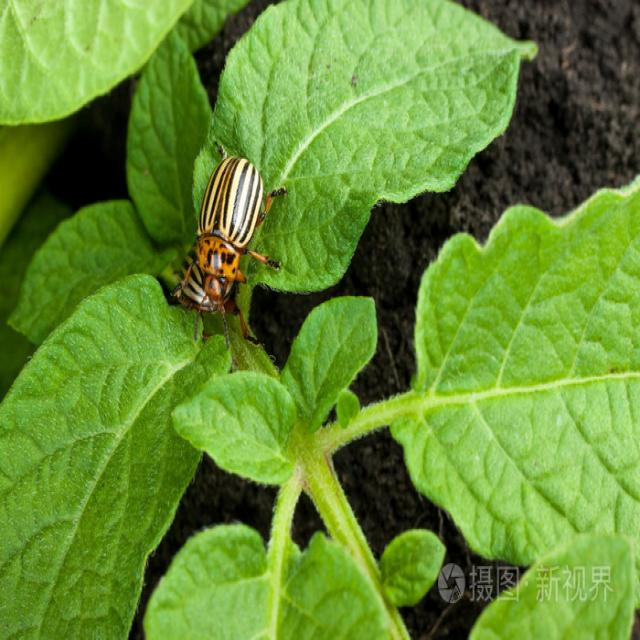ShuCaiHuaBanChong-Grown-: (172, 152, 288, 310)
